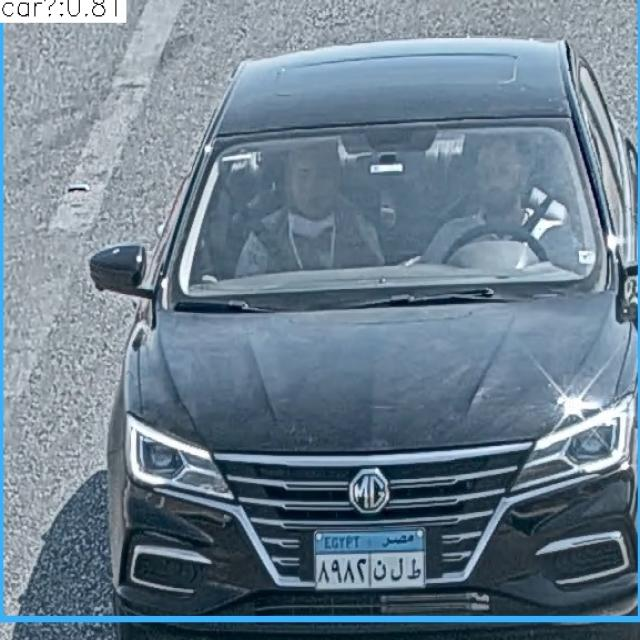windshield: (169, 137, 599, 286)
